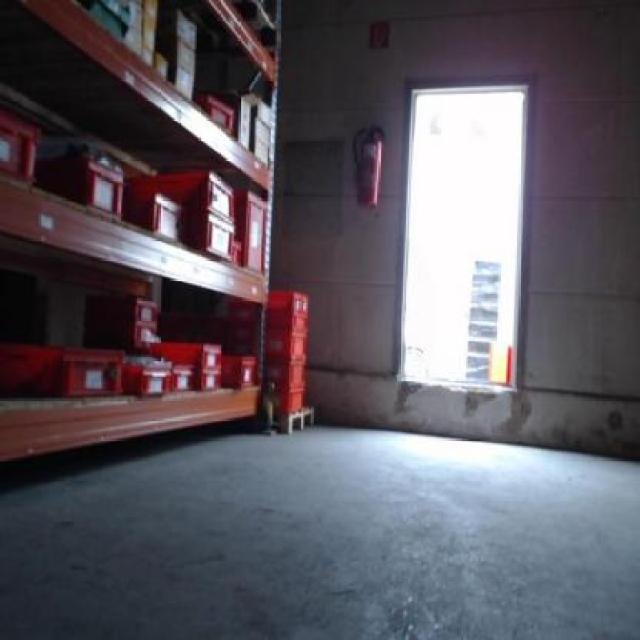ground: (0, 423, 638, 638)
pallet: (269, 400, 321, 436)
